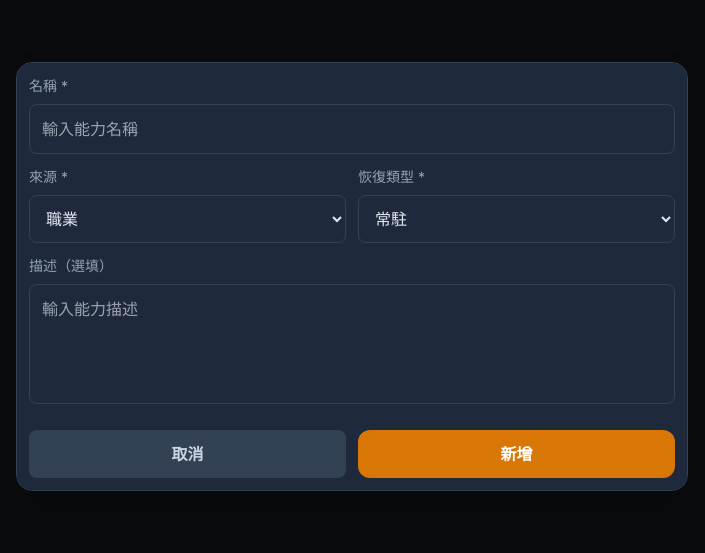
Test case: AddPersonalAbilityModal › 切換恢復類型為非常駐時顯示最大使用次數欄位
Select "短休" in the dropdown below "恢復類型 *": (516, 218) [358,194,675,242]
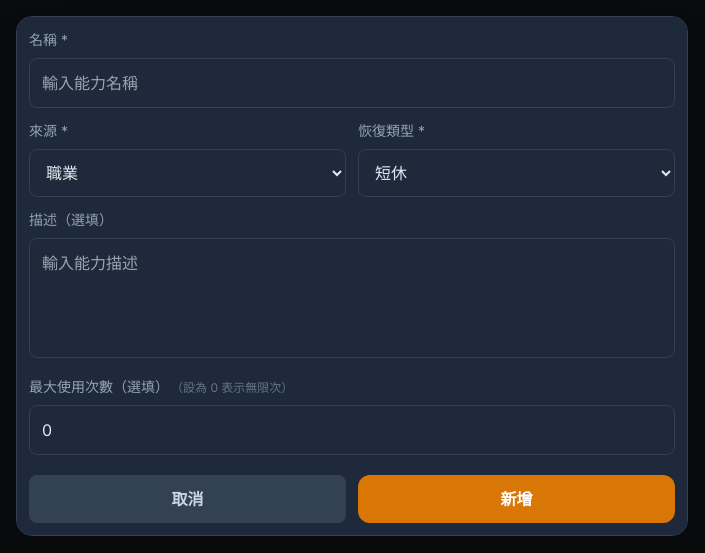
Expected: the text "最大使用次數（選填）（設為 0 表示無限次）" is shown, [29,378,293,395]
